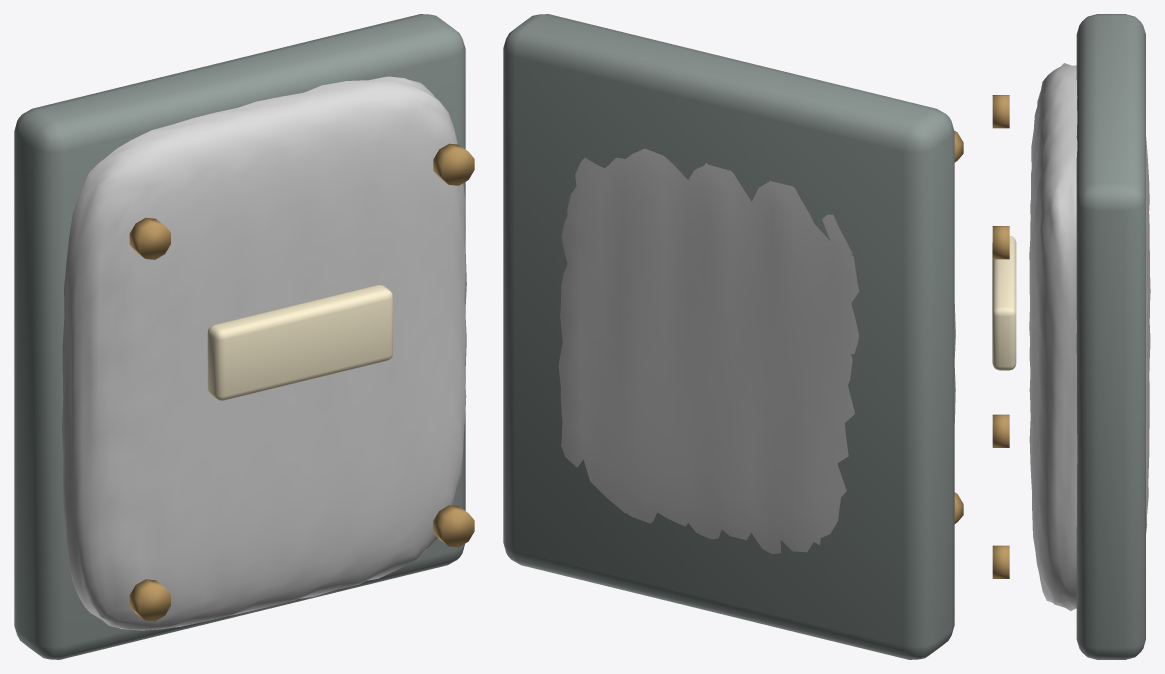
File: shield.glb
3 views of the same model, side by side, from view 1: azimuth 30°, elevation 25°; view 2: azimuth 150°, elevation 25°; view 3: azimuth 270°, elevation 25° (orthographic). The views are drawn at different scales.
Visible parts, largest first — view 1: lower_clay, lower_steel, lower_lens, lower_brass; view 2: lower_steel, lower_clay; view 3: lower_steel, lower_clay, lower_lens, lower_brass.
Part boxes in pixels (x1,y1,x2,y2): lower_clay: (62, 76, 466, 630); lower_steel: (14, 14, 465, 659); lower_lens: (207, 284, 392, 400); lower_brass: (129, 143, 474, 621); lower_steel: (503, 14, 954, 659); lower_clay: (558, 148, 955, 553); lower_steel: (1076, 14, 1145, 659); lower_clay: (1029, 63, 1150, 610); lower_lens: (992, 236, 1016, 370); lower_brass: (992, 95, 1009, 578).
Size of the model in its own units: 0.82 by 0.98 by 0.2959.
